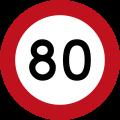Speed Limit -80-: (25, 37, 93, 86)
